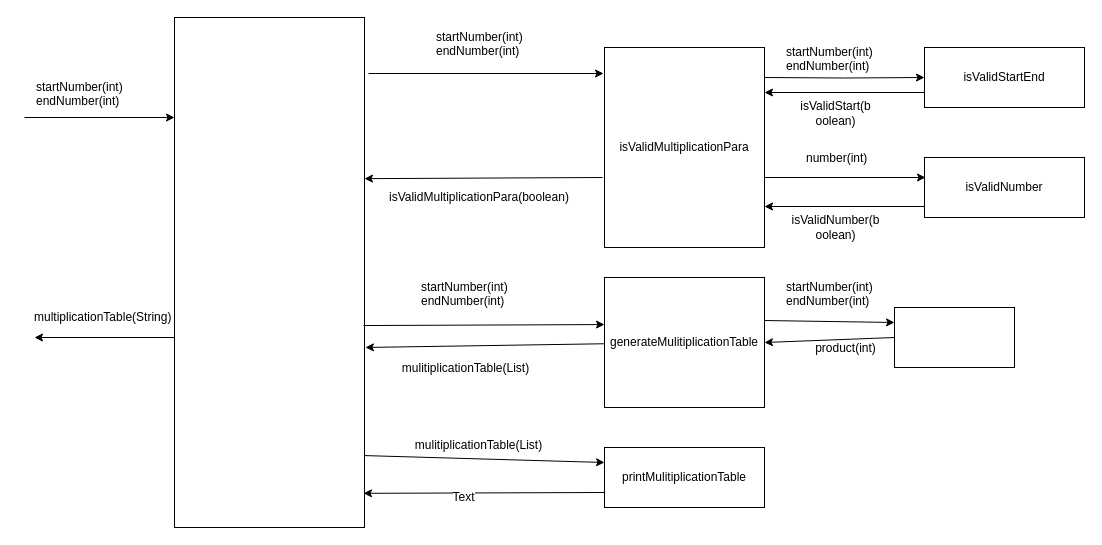
Image size: 1102x545. Some labels were removed from this diagram. The shapes that lost their labels are listed below. From the top down, each one's centre as x and y in pixels, then its label:
point (269, 272): generateMultiplicationTable
point (954, 337): mulitiplicate
